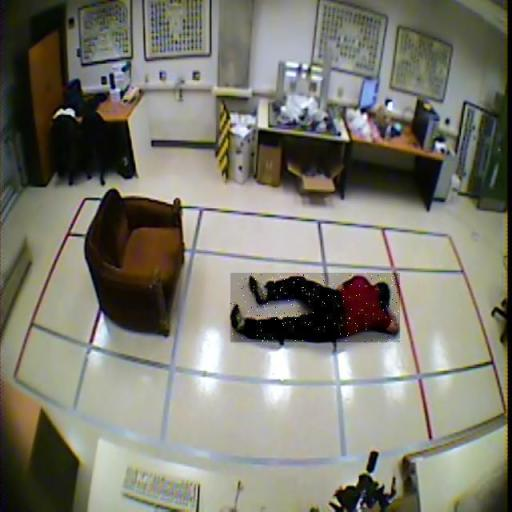Fall: (230, 273, 400, 342)
